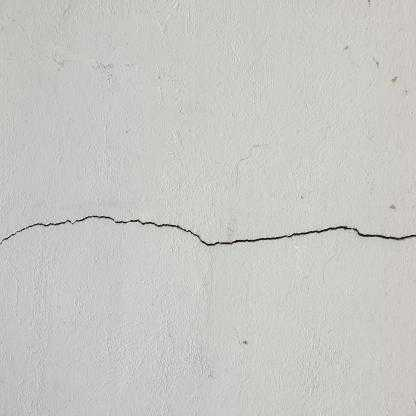crack: (0, 215, 416, 246)
